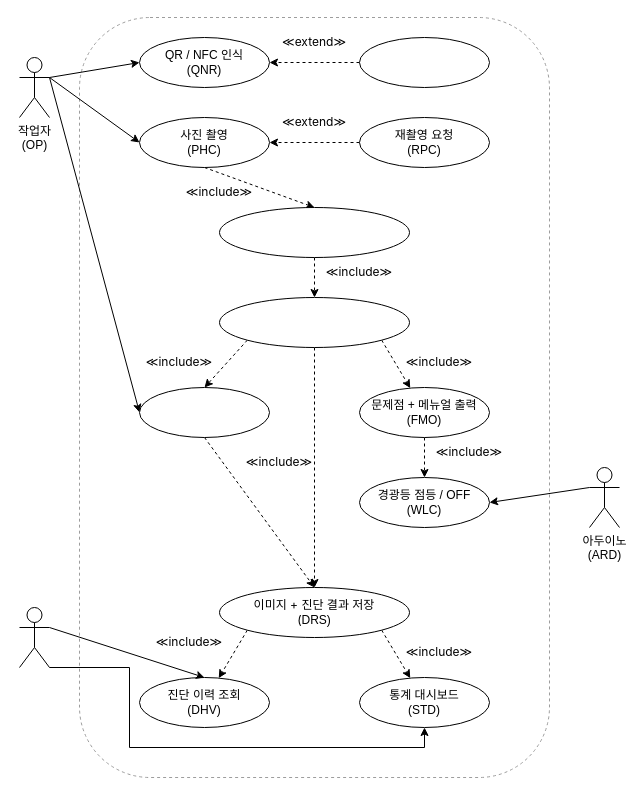
Image size: 644x795. Some labels were removed from this diagram. The shapes that lost their labels are listed below. From the top down, each one's centre as x and y in pixels, then its label:
At point 424,62: "수동 ID 입력 (MNI)".
At point 314,232: "YOLOv8 부품/불량 분석 ( DTA)".
At point 314,322: "Gemini 진단 + 매뉴얼 생성 ( DMG)".
At point 204,412: "정상 메뉴얼 출력 (NMO)".
At point 34,637: "관리자 (ADM)".
